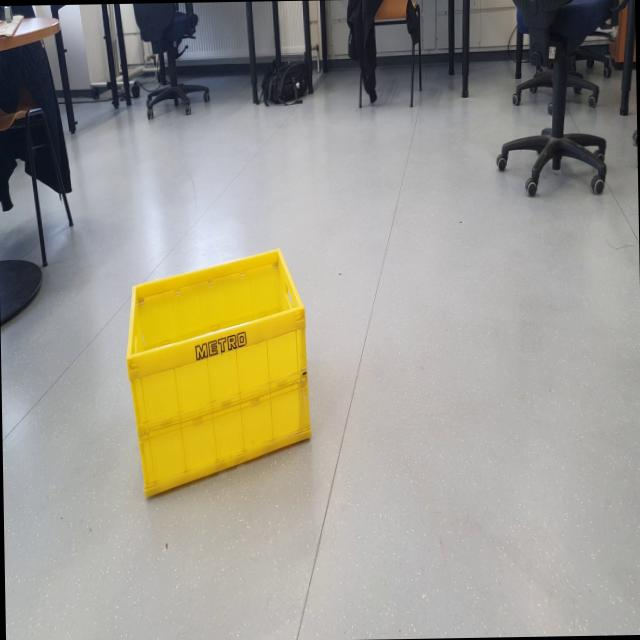box: (111, 232, 319, 509)
